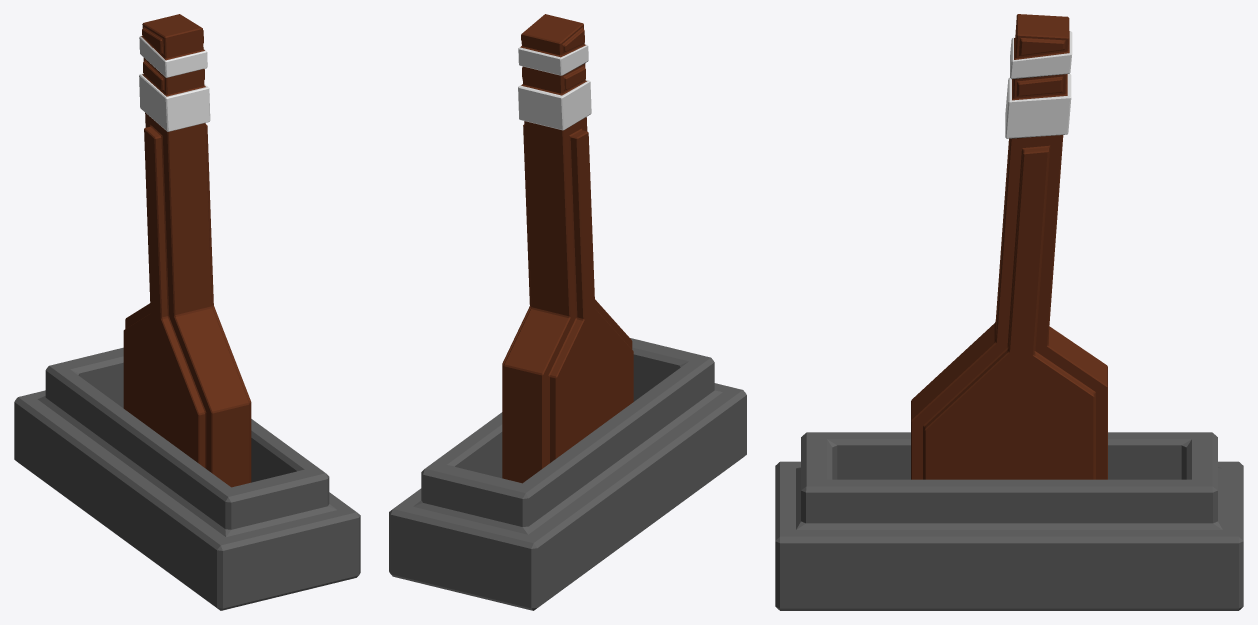
Rendered from Lever.fbx.
3 renders of one model, left to right at view 1: azimuth 30°, elevation 25°; view 2: azimuth 150°, elevation 25°; view 3: azimuth 270°, elevation 25°, orthographic. The views are drawn at different scales.
Visible parts, largest first — view 1: Cube, Cube.001; view 2: Cube, Cube.001; view 3: Cube, Cube.001.
Boxes of the visible parts, x1,y1,x2,y2 form: Cube: (14,347,360,610); Cube.001: (123,14,251,487); Cube: (389,338,746,610); Cube.001: (502,14,633,483); Cube: (775,432,1243,610); Cube.001: (911,14,1107,479).
Size of the model in its own units: 191 by 615 by 476.
